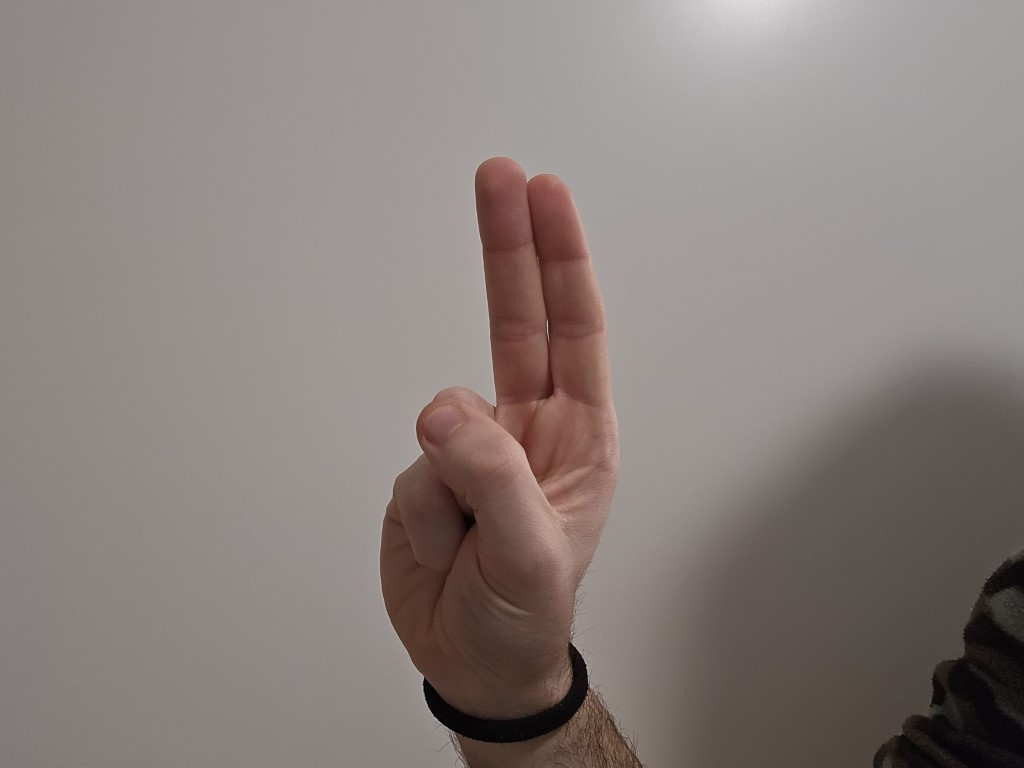u: (294, 154, 642, 678)
